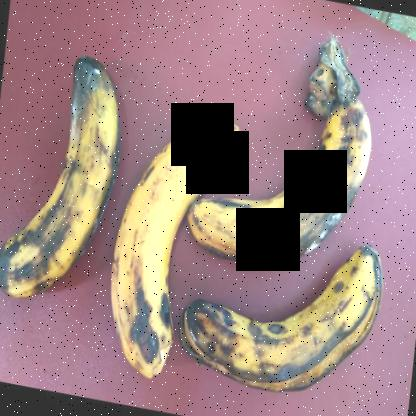overripe: (104, 95, 238, 387)
rotten: (191, 62, 379, 268), (180, 248, 396, 405), (3, 48, 120, 314)
